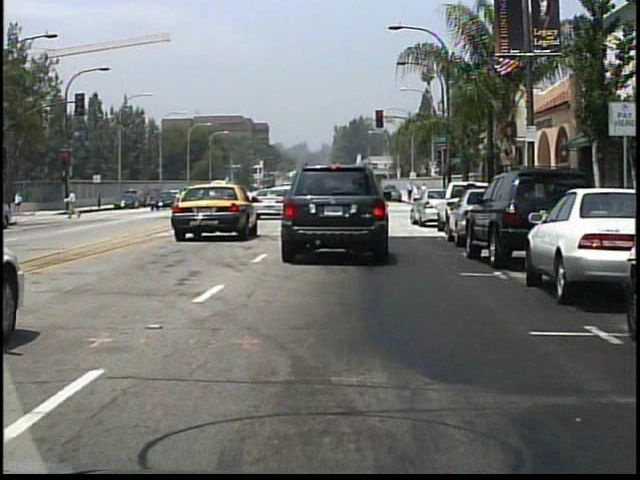person: (405, 182, 426, 216), (67, 186, 81, 221), (12, 189, 25, 215)
